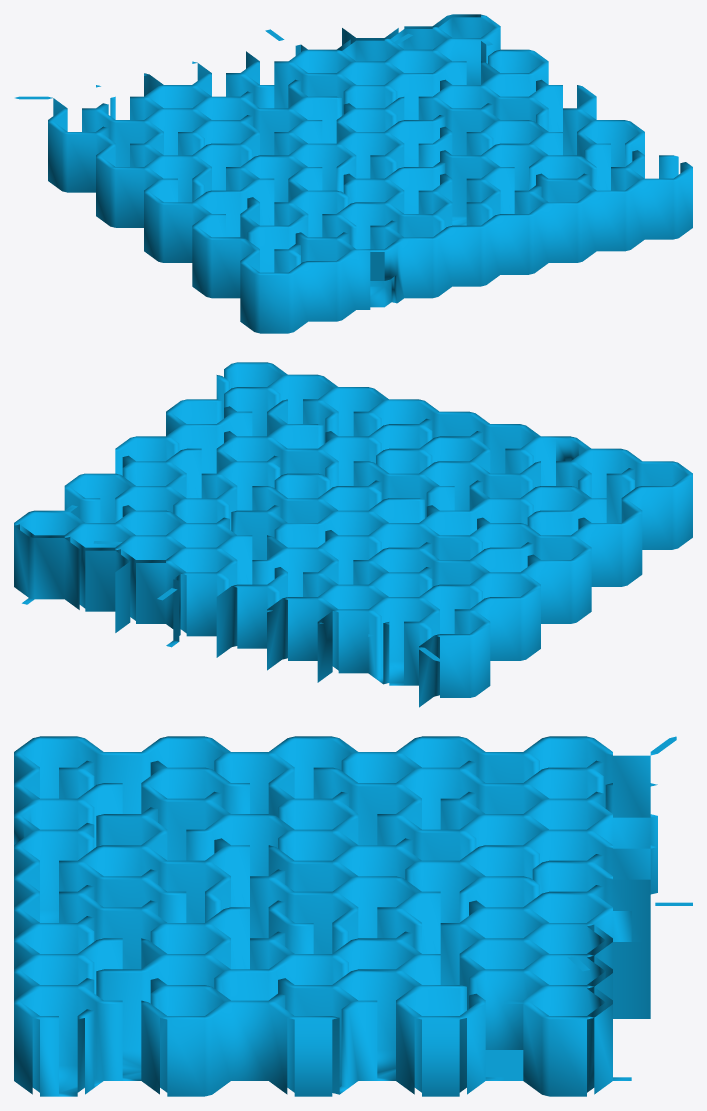
File: Honey Maze (baked)1121.fbx
3 renders of one model, top to bottom at view 1: azimuth 30°, elevation 25°; view 2: azimuth 150°, elevation 25°; view 3: azimuth 270°, elevation 25°, orthographic. The views are drawn at different scales.
Visible parts, largest first — view 1: Circle.001; view 2: Circle.001; view 3: Circle.001.
Part boxes in pixels (bbox=[...]): Circle.001: bbox=[15, 14, 692, 333]; Circle.001: bbox=[14, 362, 692, 707]; Circle.001: bbox=[14, 736, 692, 1096].
Size of the model in its own units: 1579 by 200 by 1600.
